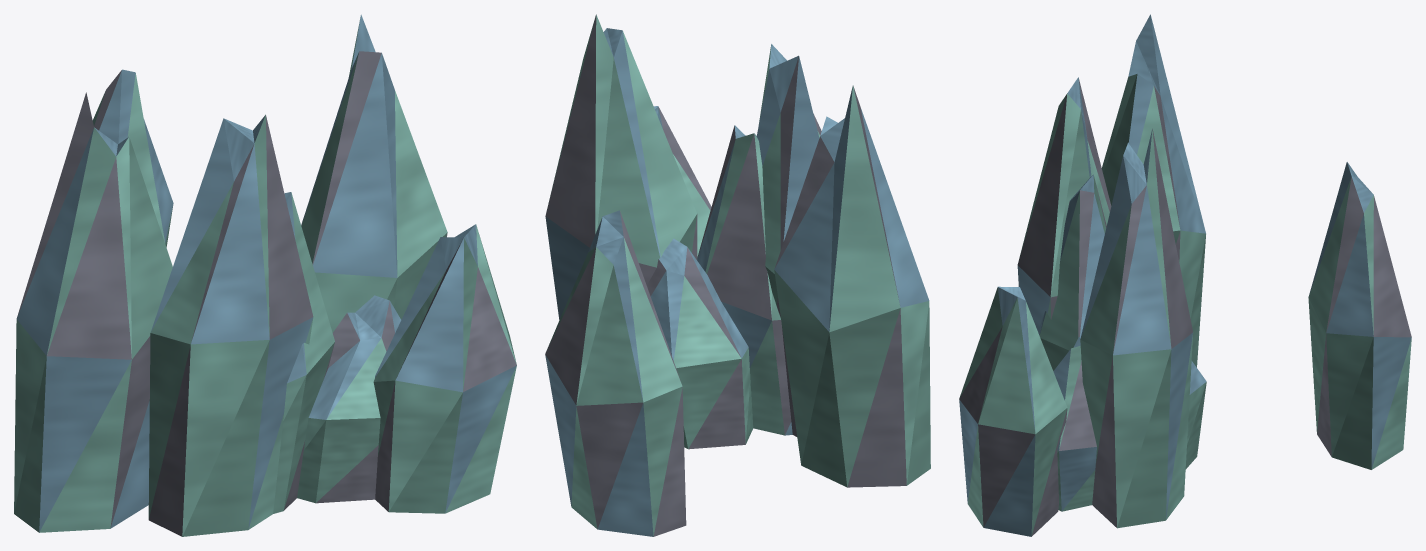
File: rock_crystal_cluster_02.fbx
The picture shows the model from 3 angles, left to right: view 1: azimuth 30°, elevation 25°; view 2: azimuth 150°, elevation 25°; view 3: azimuth 270°, elevation 25°; orthographic projection. The views are drawn at different scales.
Parts seen in each view (by area): view 1: rock_crystal_cluster_02; view 2: rock_crystal_cluster_02; view 3: rock_crystal_cluster_02.
Boxes of the visible parts, x1,y1,x2,y2 form: rock_crystal_cluster_02: (14, 14, 516, 536); rock_crystal_cluster_02: (545, 14, 930, 536); rock_crystal_cluster_02: (959, 14, 1411, 536).
Bounding box in the file's own units: 198 × 187 × 200.
Materials: 1 (1 with a texture image).
